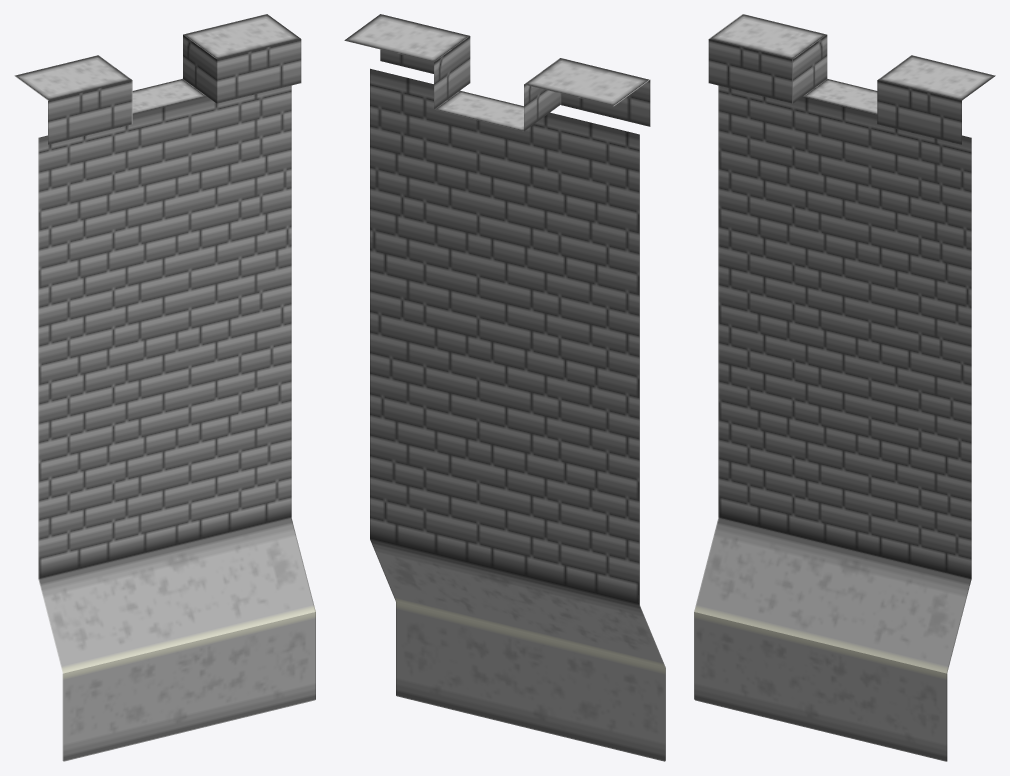
File: Castle_Wall_1.fbx
3 views of the same model, side by side, from view 1: azimuth 30°, elevation 25°; view 2: azimuth 150°, elevation 25°; view 3: azimuth 330°, elevation 25° (orthographic). The views are drawn at different scales.
Parts seen in each view (by area): view 1: Castle_Wall_1; view 2: Castle_Wall_1; view 3: Castle_Wall_1.
Boxes of the visible parts, x1,y1,x2,y2 form: Castle_Wall_1: (14, 14, 315, 761); Castle_Wall_1: (344, 14, 665, 761); Castle_Wall_1: (694, 14, 995, 761).
Size of the model in its own units: 600 by 1473 by 200.
Materials: 1 (1 with a texture image).
